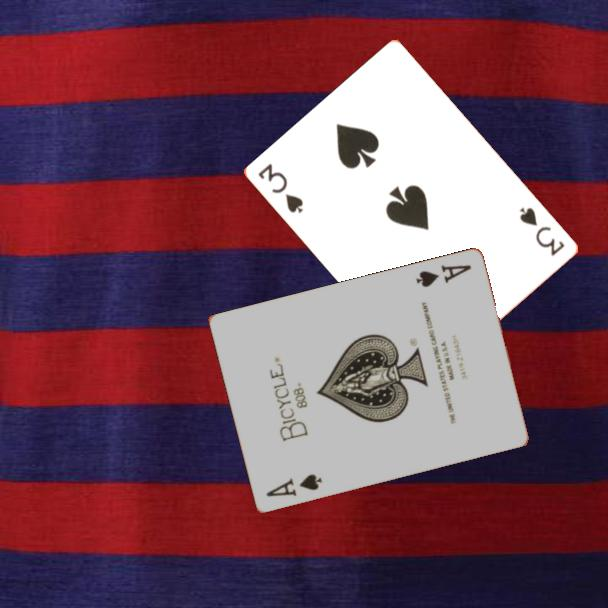s01: (262, 471, 325, 500), (412, 262, 474, 291)
s03: (255, 159, 307, 216), (516, 204, 568, 259)
